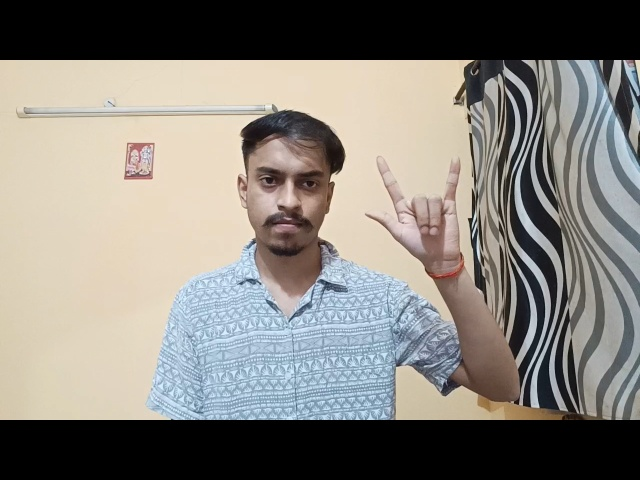ILoveyou: (356, 144, 481, 272)
